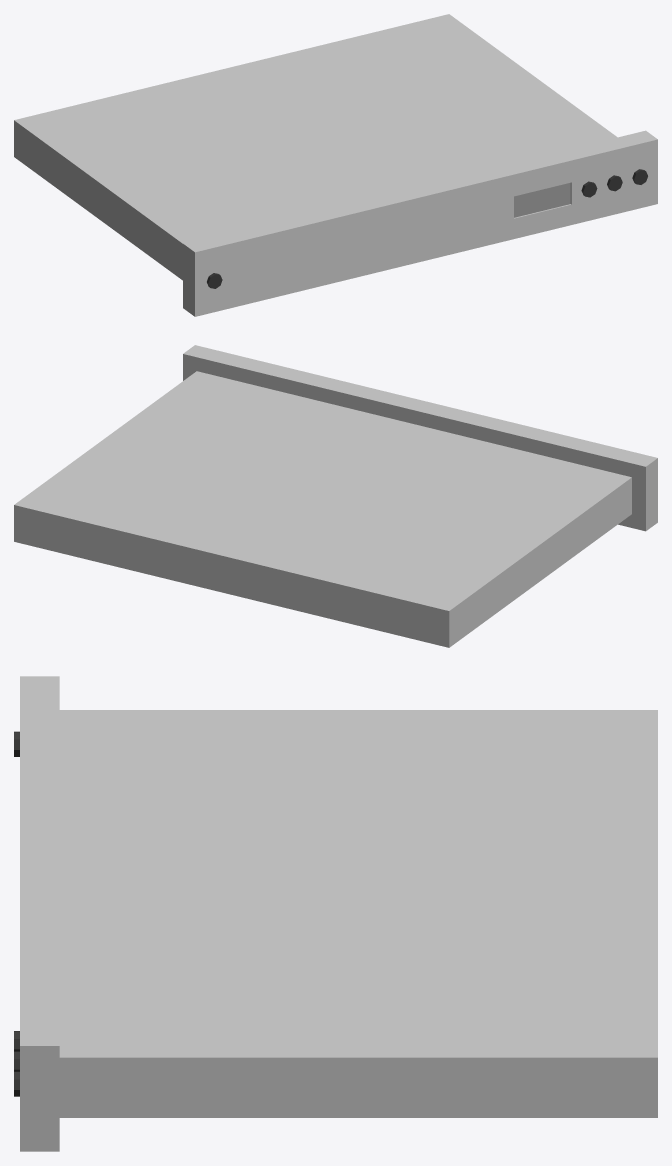
File: Hood2_C2_02.fbx
The picture shows the model from 3 angles, top to bottom: view 1: azimuth 30°, elevation 25°; view 2: azimuth 150°, elevation 25°; view 3: azimuth 270°, elevation 25°; orthographic projection. The views are drawn at different scales.
Visible parts, largest first — view 1: Hood2_C2_02; view 2: Hood2_C2_02; view 3: Hood2_C2_02.
Boxes of the visible parts, x1=… form: Hood2_C2_02: x1=14, y1=14, x2=657, y2=316; Hood2_C2_02: x1=14, y1=345, x2=657, y2=647; Hood2_C2_02: x1=14, y1=676, x2=657, y2=1151.
Bounding box in the file's own units: 60 × 8 × 44.17.
